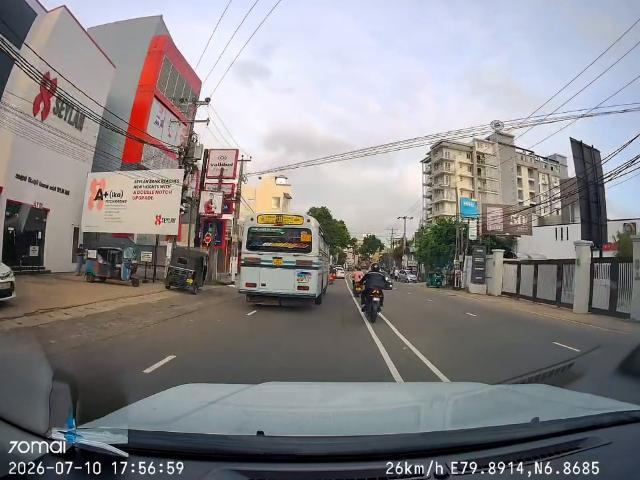illegal overtaking: (357, 262, 395, 329)
